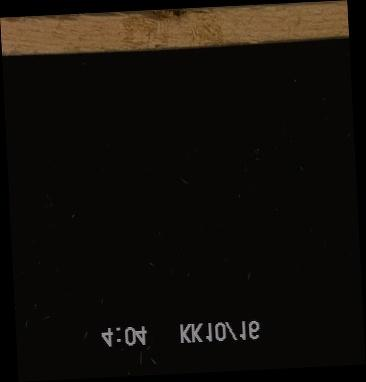wave: (85, 9, 216, 20)
